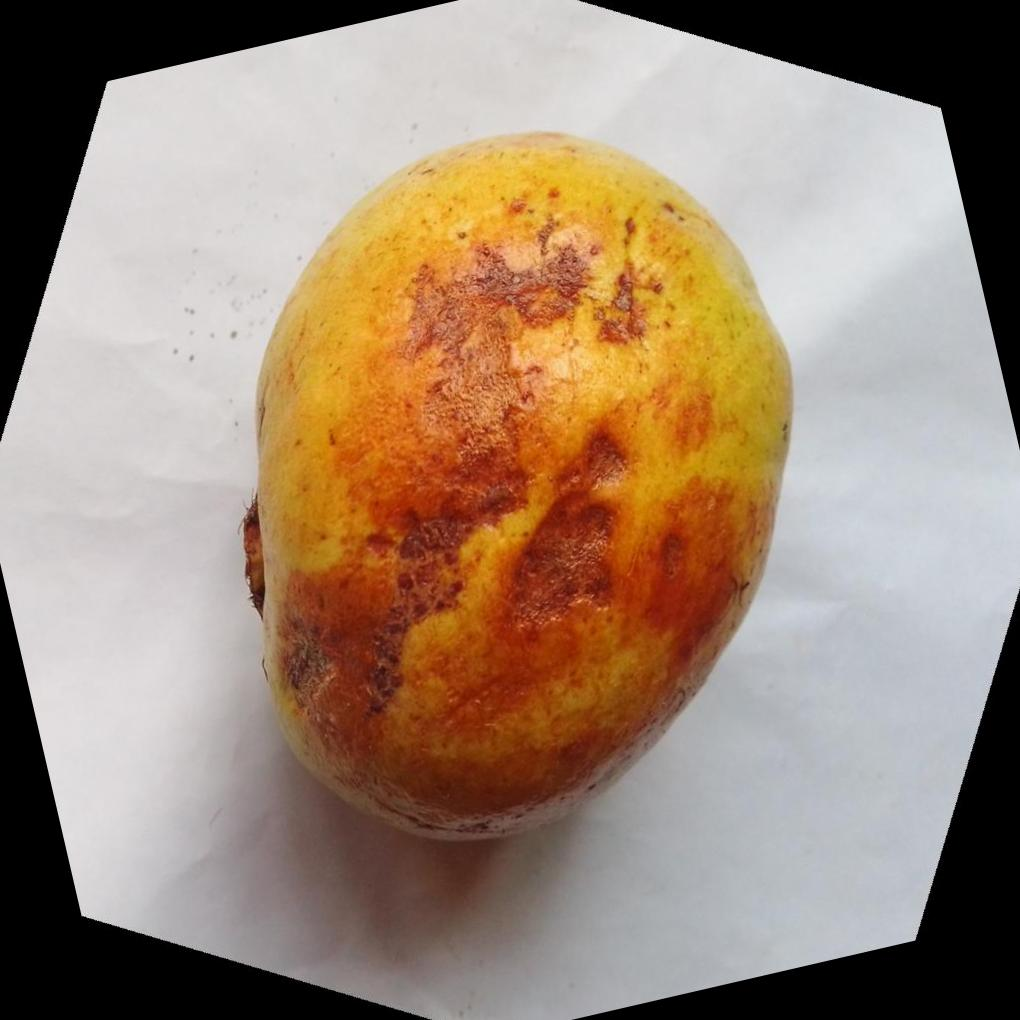FreshOrange: (241, 124, 795, 839)
